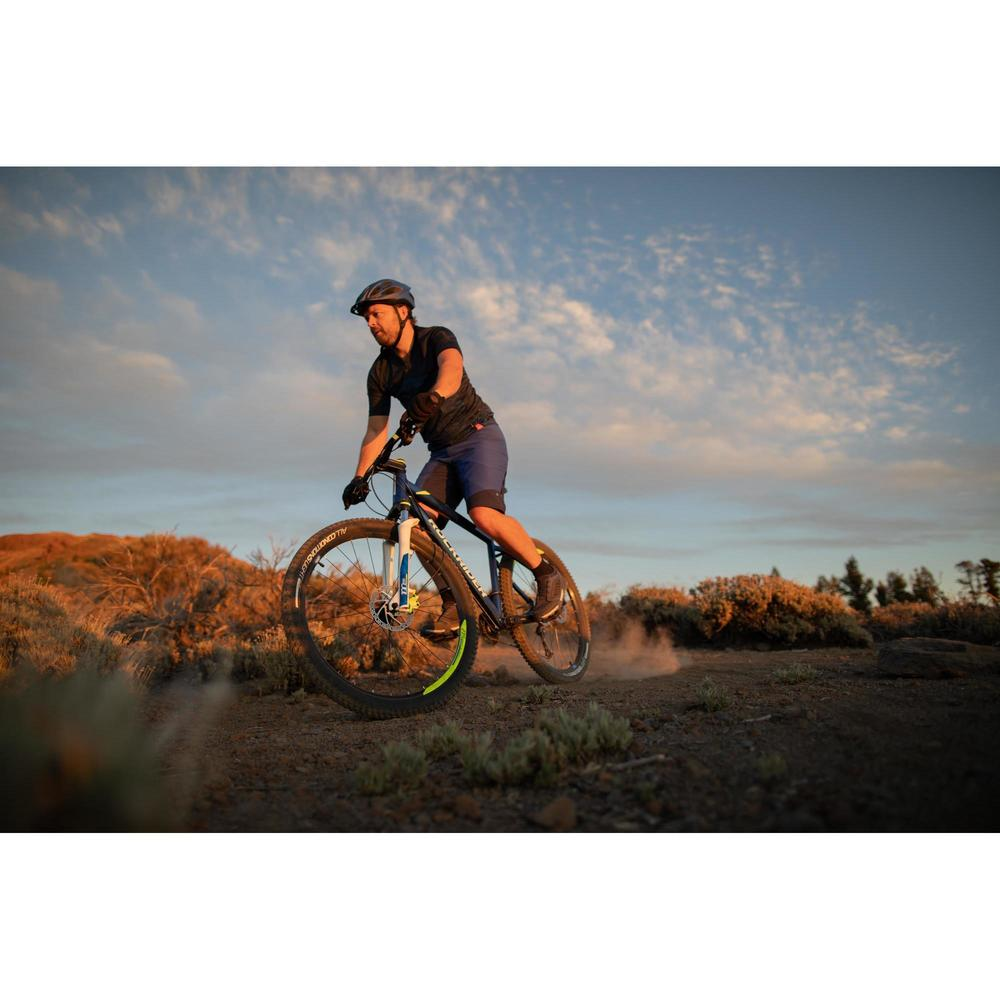MountainBike: (292, 398, 597, 703)
